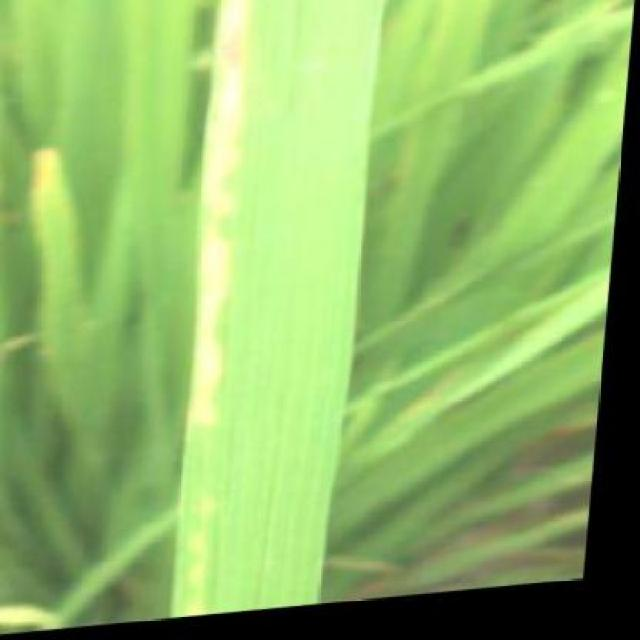Brown_Spot: (178, 0, 398, 622)
